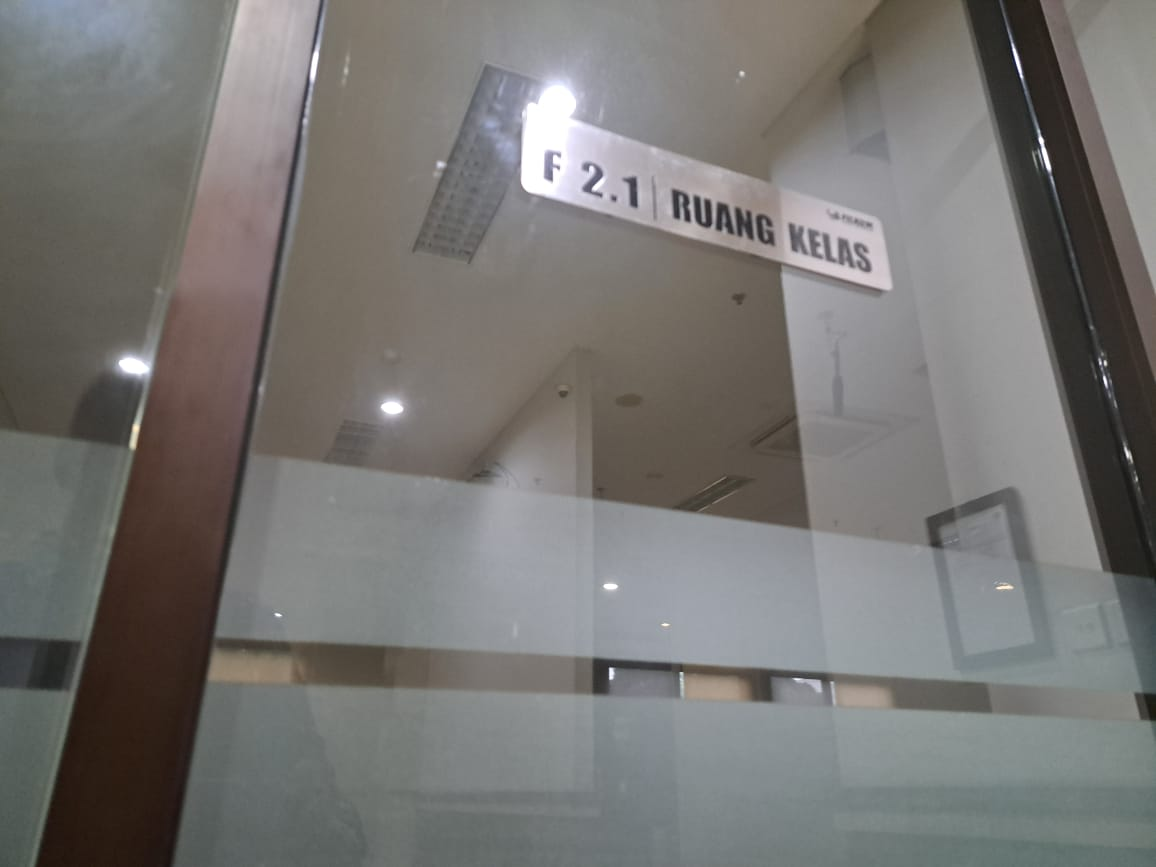ruangan: (512, 95, 900, 298)
